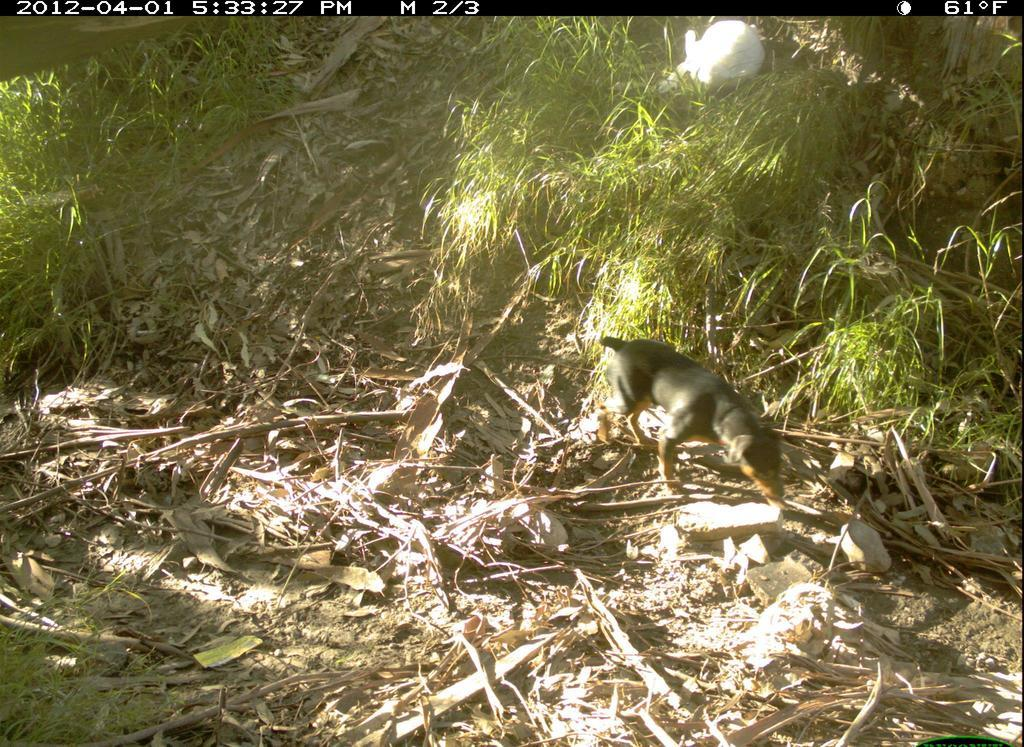dog: (583, 313, 798, 524)
